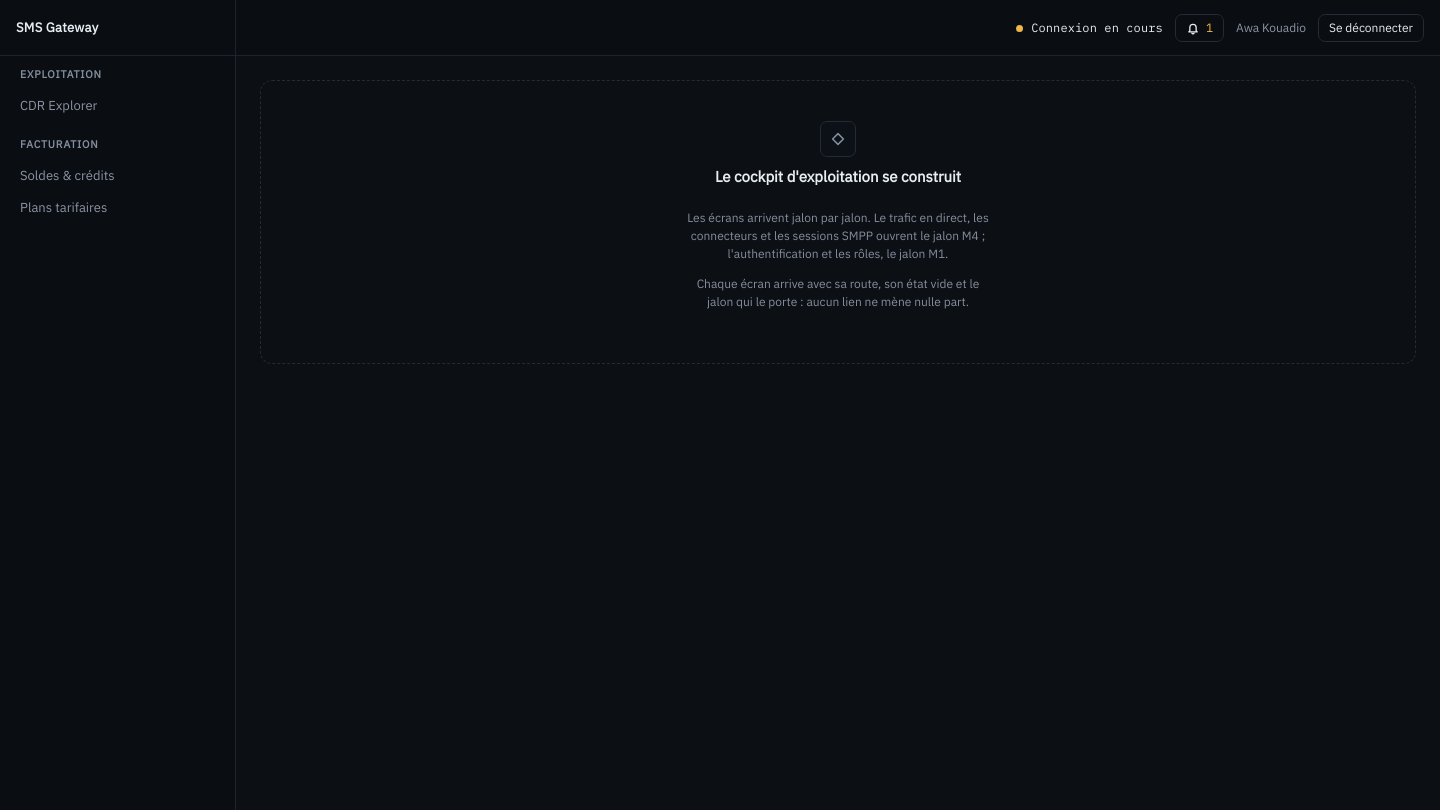
it: the notification center › lists each notification with its copy, its time and its customer
Click the button named "Notifications": (1200, 28) [1175,14,1224,42]
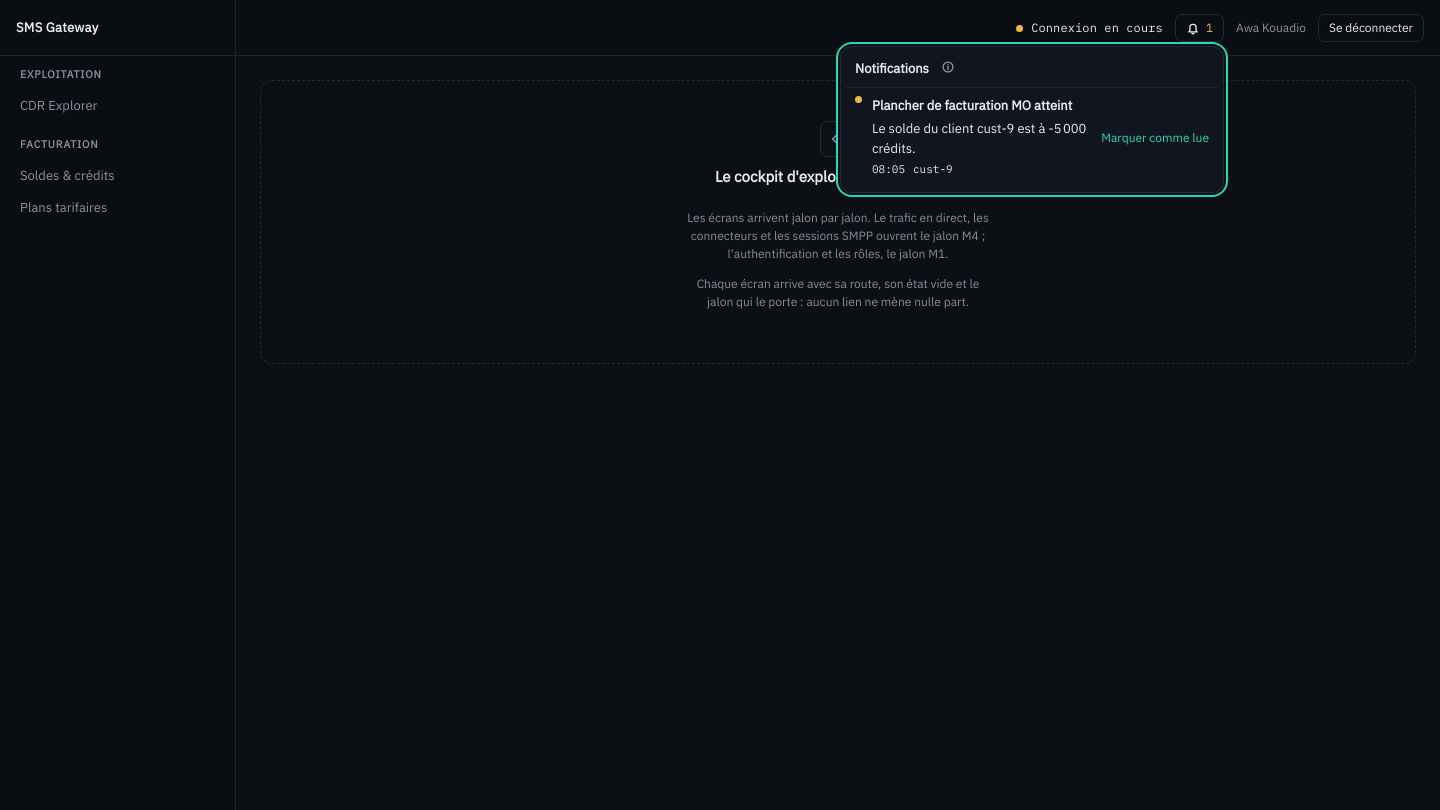
Check: the list item that starts with "Plancher de facturation MO atteint" is shown, box [872,96,1072,114]
Check: the text "08:05" is shown, box [872,162,905,176]
Check: the text "cust-9" is shown, box [913,162,953,176]
